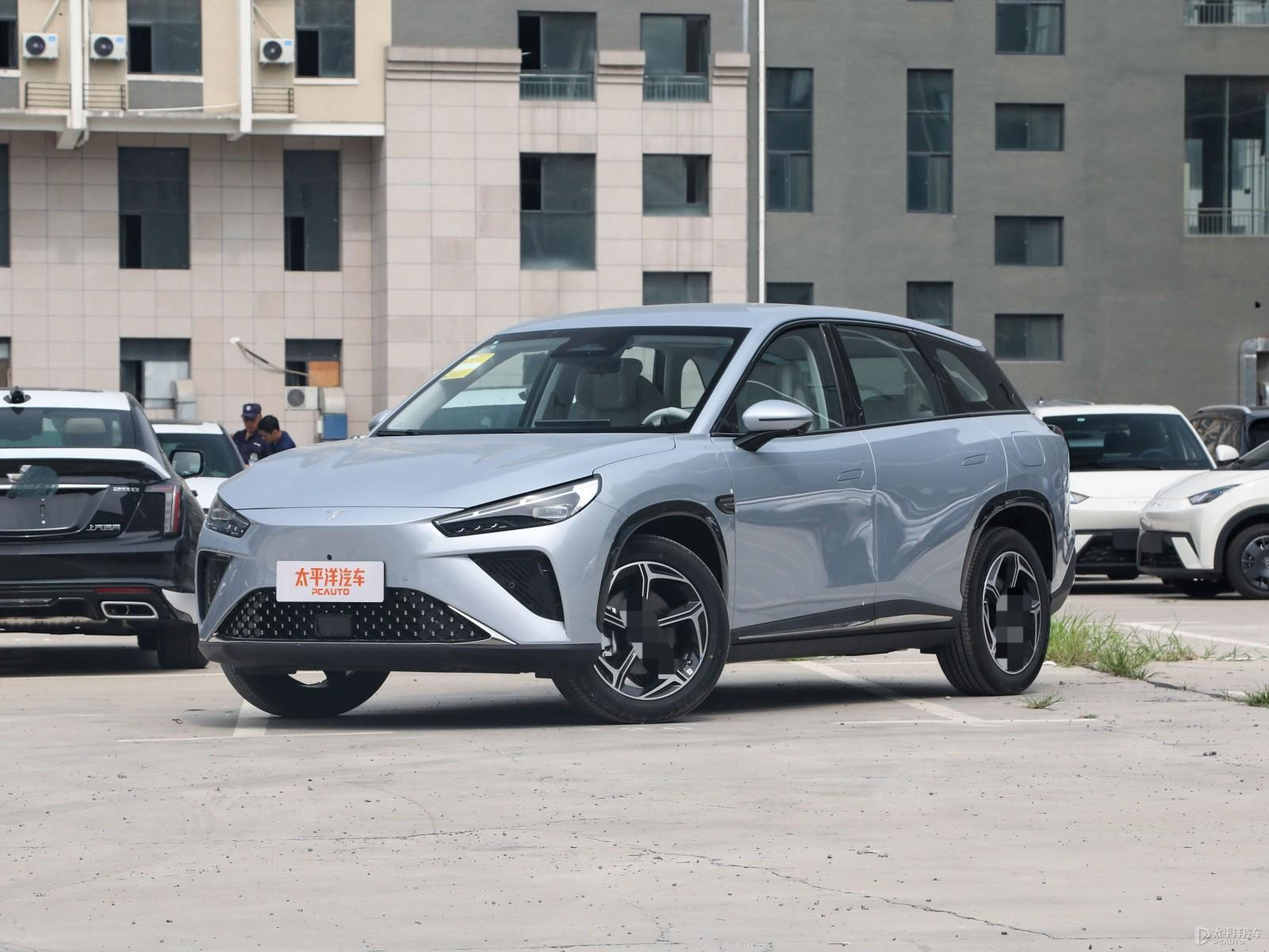NETA: (323, 508, 346, 522)
